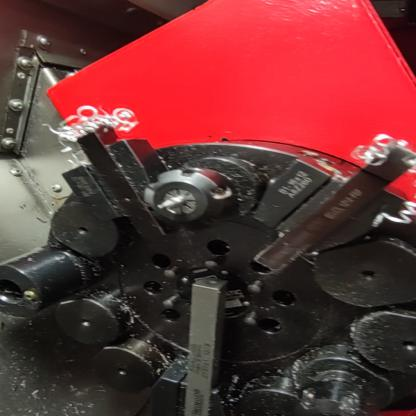bit: (53, 121, 197, 247), (141, 274, 247, 416)
